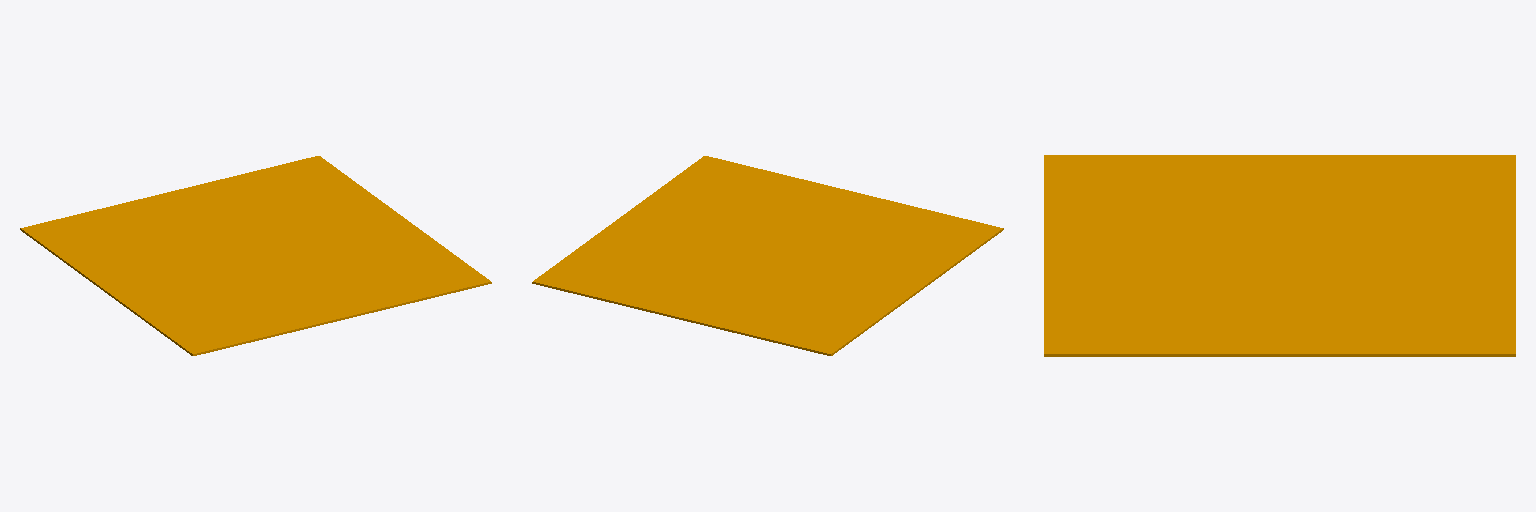
URDF robot description (workbench):
<?xml version="1.0"?>
<robot name="workbench">

<link name="base_link">
  <collision>
    <origin xyz="0 0 0.005" rpy="0 0 0"/>
    <geometry>
      <box size="1.5 1.5 0.01" />
    </geometry>
  </collision>

  <visual>
    <origin xyz="0 0 0.005" rpy="0 0 0"/>
    <geometry>
      <box size="1.5 1.5 0.01" />
    </geometry>
  </visual>

  <inertial>
    <origin xyz="0 0 0.005" rpy="0 0 0"/>
    <mass value="10" />
    <inertia
      ixx="1" ixy="0.0"  ixz="0.0"
      iyy="1" iyz="0.0"
      izz="1" />
  </inertial>
  </link>

<gazebo reference="base_link">
  <material>Gazebo/Orange</material>
    <mu1>5</mu1>
    <mu2>5</mu2>
</gazebo>

<gazebo>
    <static>true</static>
</gazebo>

</robot>

--- What the picture shows (computed from the rendered views, not written in the file) ---
Views: 3 orthographic renders of the robot side by side, from view 1: azimuth 30°, elevation 25°; view 2: azimuth 150°, elevation 25°; view 3: azimuth 270°, elevation 25°.
Robot: workbench — 1 links, 0 joints (none); root link base_link; default pose: all joints at 0.
Links seen in each view (by area): view 1: base_link; view 2: base_link; view 3: base_link.
Link boxes in pixels (<box>): base_link: <box>20,156,491,355</box>; base_link: <box>532,156,1003,355</box>; base_link: <box>1044,155,1515,356</box>.
Bounding box of the posed robot: 1.5 × 1.5 × 0.01 m (x, y, z).
Geometry: primitives only (box / cylinder / sphere), no mesh files.